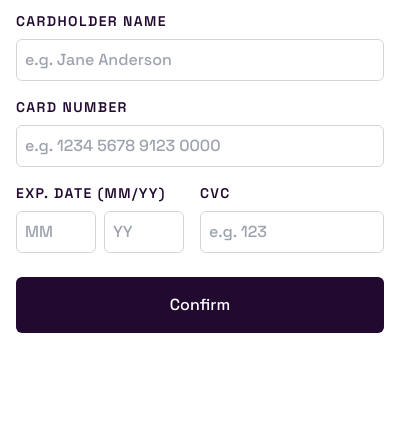
Form › wrong expiry date year input - more than 2 numbers
Note: give correct month format
Type "5" into the number field labelled "Exp. date (MM/YY)" at {"x": 56, "y": 232}, box x1=16 y1=211 x2=96 y2=253
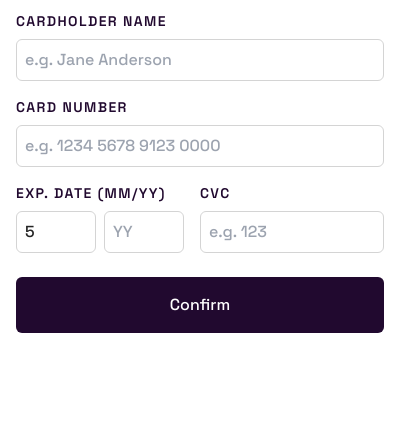
Note: give wrong year format
Type "12" into the number field with test id "year" at {"x": 144, "y": 232}, box x1=104 y1=211 x2=184 y2=253
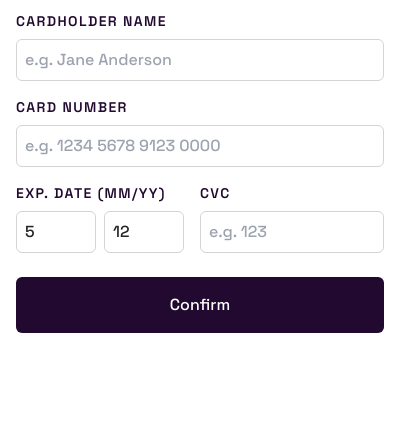
Click the button with test id "submitBtn" at {"x": 200, "y": 305}, box x1=16 y1=277 x2=384 y2=333
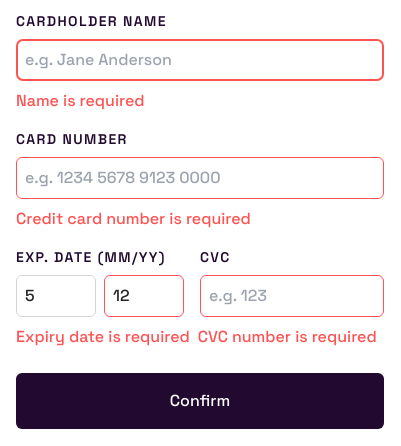
Expected: the text "Expiry date is required" is shown, x1=16 y1=325 x2=190 y2=349
